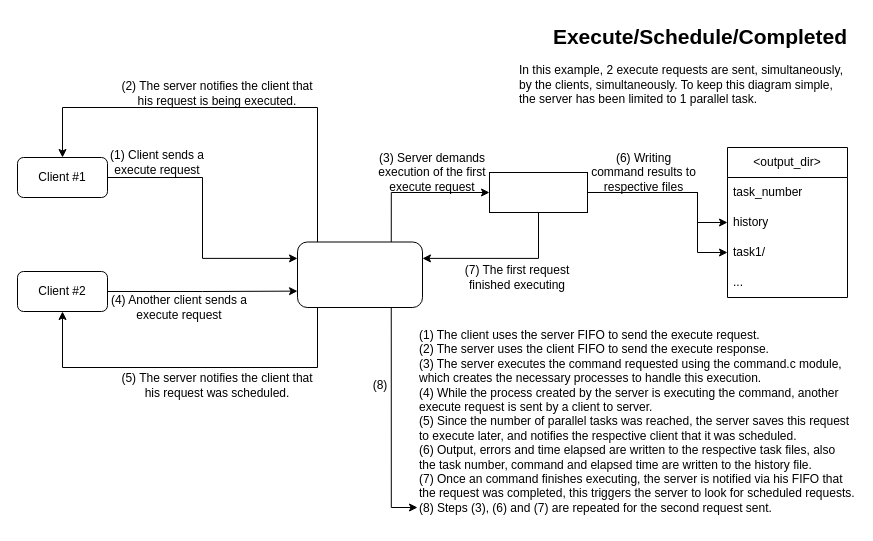
Image size: 873x541. Some labels were removed from this diagram. Here are the shapes that lost their labels. From the top down, the centre of each, then its label:
point 538,192: Set of Processes #1
point 359,274: Orchestrator Server
